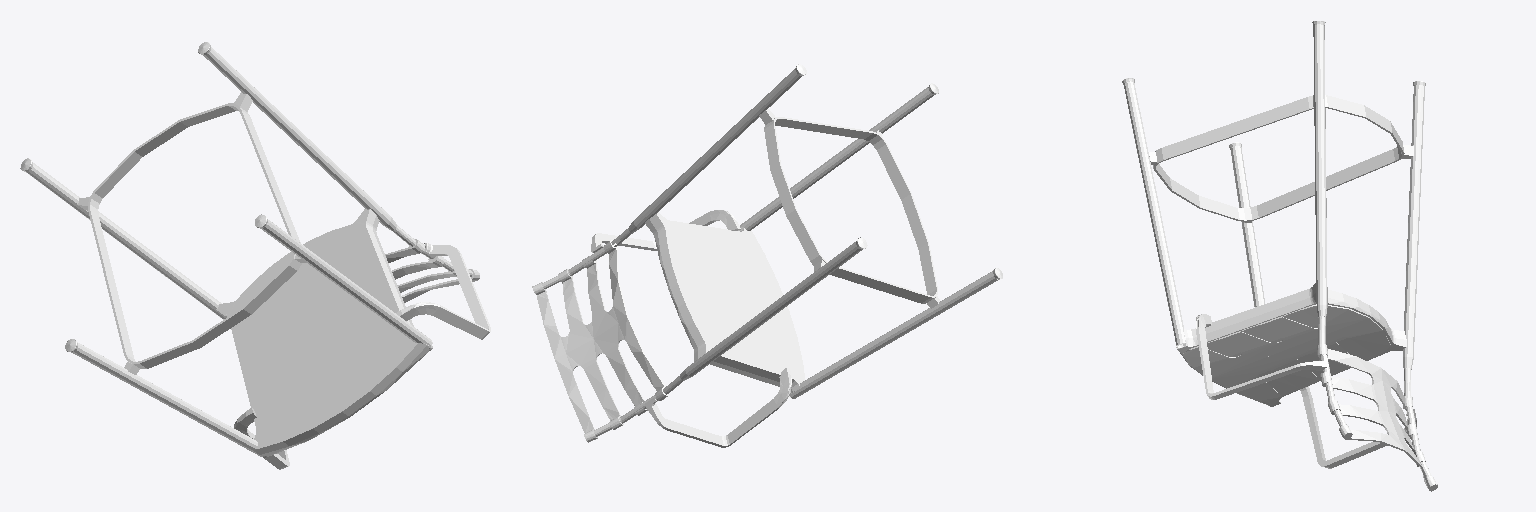
robot.urdf — chair_0891.urdf:
<?xml version="1.0" ?>
<robot name="chair_0891.urdf">
  <link name="baseLink">
    <contact>
      <lateral_friction value="1.0"/>
      <inertia_scaling value="1.0"/>
    </contact>
    <inertial>
      <origin rpy="0 0 0" xyz="0.199216 -0.048188 -0.721858"/>
       <mass value="13.822711"/>
       <inertia ixx="1.033889" ixy="-0.115807" ixz="0.202965" iyy="1.277302" iyz="0.099493" izz="1.200304"/>
     </inertial>
    <visual>
      <origin rpy="0 0 0" xyz="0 0 0"/>
      <geometry>
				<mesh filename="chair_0891.obj" scale="1 1 1"/>
      </geometry>
       <material name="white">
        <color rgba="1 1 1 1"/>
      </material>
    </visual>
    <collision>
      <origin rpy="0 0 0" xyz="0 0 0"/>
      <geometry>
        <mesh filename="chair_0891_vhacd.obj" scale="1 1 1"/>
      </geometry>
    </collision>
  </link>
</robot>


--- Facts derived from the render (not from the file) ---
The picture shows the robot from 3 angles, left to right: view 1: azimuth 30°, elevation 25°; view 2: azimuth 150°, elevation 25°; view 3: azimuth 270°, elevation 25°; orthographic projection.
Robot: chair_0891.urdf — 1 links, 0 joints (none); root link baseLink; default pose: all joints at 0.
Links seen in each view (by area): view 1: baseLink; view 2: baseLink; view 3: baseLink.
Link boxes in pixels (bbox=[...]): baseLink: bbox=[20, 42, 490, 469]; baseLink: bbox=[532, 64, 1002, 447]; baseLink: bbox=[1122, 21, 1437, 491].
Bounding box of the posed robot: 1.25 × 0.7897 × 1.14 m (x, y, z).
1 mesh visuals loaded from 1 distinct referenced files (1 OBJ).